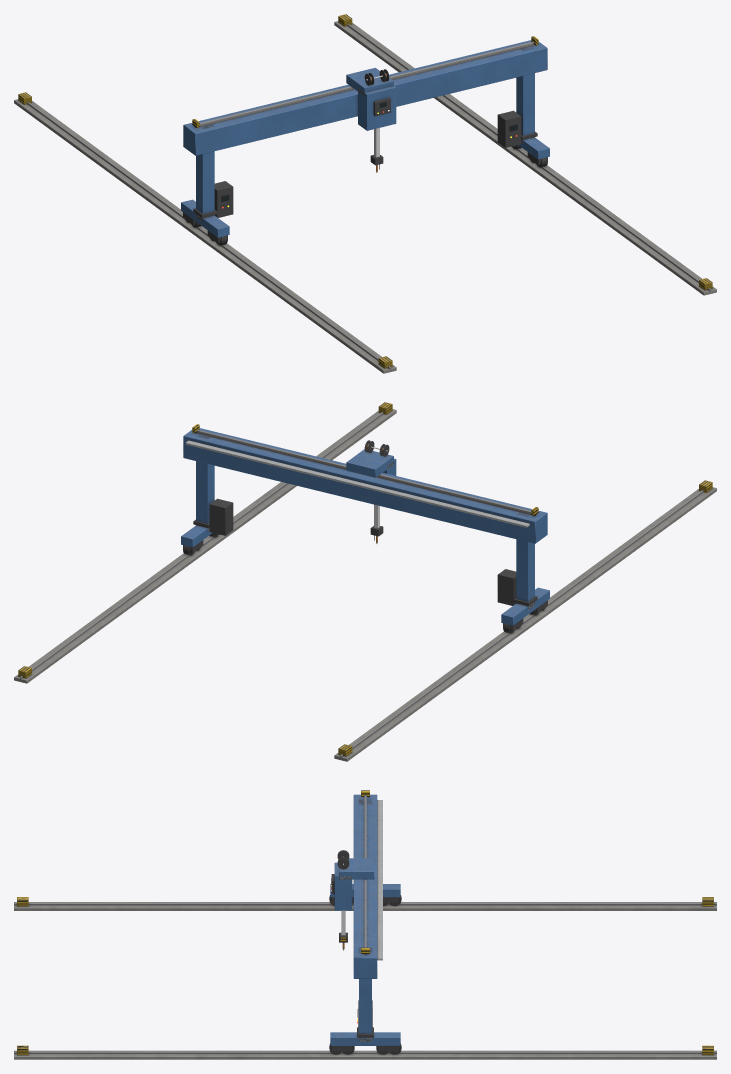
File: WeldingGantry.fbx
3 renders of one model, top to bottom at view 1: azimuth 30°, elevation 25°; view 2: azimuth 150°, elevation 25°; view 3: azimuth 270°, elevation 25°, orthographic. The views are drawn at different scales.
Visible parts, largest first — view 1: Girder_LOD0, Rail_W_LOD0, Rail_E_LOD0, Leg_W_LOD0, Leg_E_LOD0, Trolley_LOD0; view 2: Girder_LOD0, Rail_W_LOD0, Rail_E_LOD0, Leg_W_LOD0, Leg_E_LOD0, Trolley_LOD0; view 3: Rail_E_LOD0, Rail_W_LOD0, Girder_LOD0, Leg_E_LOD0, Trolley_LOD0, Leg_W_LOD0.
Part boxes in pixels (bbox=[...]): Girder_LOD0: bbox=[183, 36, 547, 155]; Rail_W_LOD0: bbox=[14, 92, 396, 373]; Rail_E_LOD0: bbox=[334, 14, 716, 295]; Leg_W_LOD0: bbox=[181, 124, 233, 245]; Leg_E_LOD0: bbox=[497, 46, 549, 167]; Trolley_LOD0: bbox=[346, 67, 396, 130]; Girder_LOD0: bbox=[183, 424, 547, 543]; Rail_W_LOD0: bbox=[334, 480, 716, 761]; Rail_E_LOD0: bbox=[14, 402, 396, 683]; Leg_W_LOD0: bbox=[497, 512, 549, 633]; Leg_E_LOD0: bbox=[181, 434, 233, 555]; Trolley_LOD0: bbox=[346, 440, 396, 477]; Rail_E_LOD0: bbox=[14, 1045, 716, 1059]; Rail_W_LOD0: bbox=[14, 897, 716, 910]; Girder_LOD0: bbox=[353, 790, 382, 978]; Leg_E_LOD0: bbox=[329, 947, 401, 1054]; Trolley_LOD0: bbox=[331, 850, 374, 910]; Leg_W_LOD0: bbox=[329, 799, 401, 906].
Size of what is drawn, in the model's own units: 13.2 by 4.82 by 24.
Materials: 1 (1 with a texture image).
